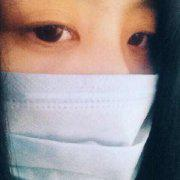OK: (5, 7, 161, 179)
